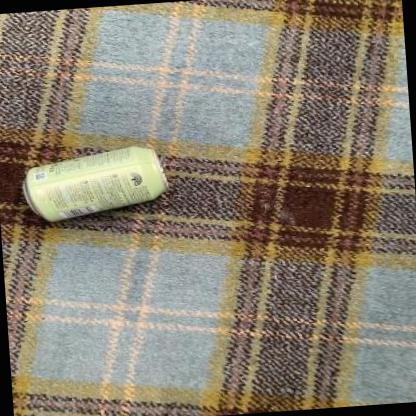alumunium_can: (17, 141, 174, 225)
